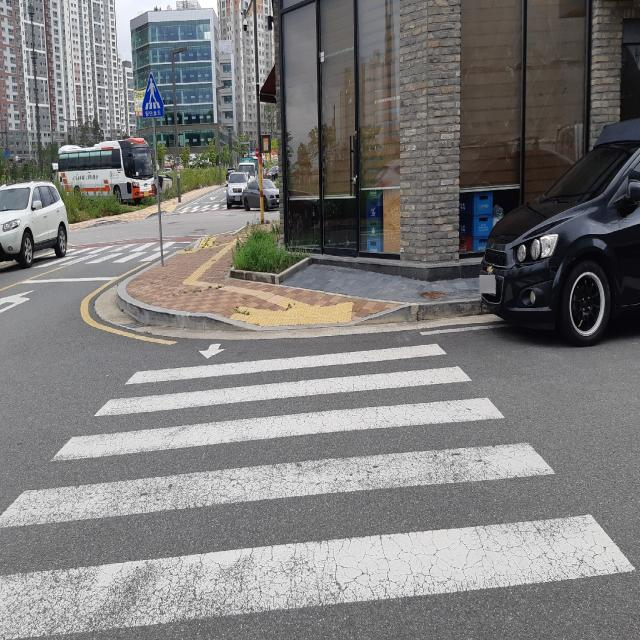횡단보도: (0, 342, 640, 640), (66, 232, 184, 278)
